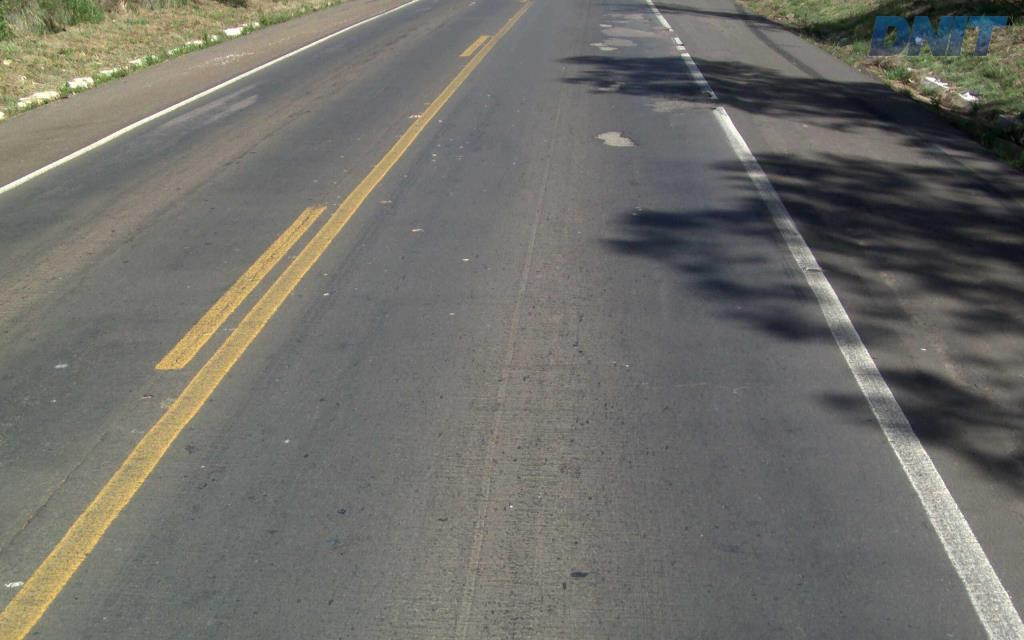pothole: (590, 122, 641, 156), (589, 42, 619, 50), (597, 20, 615, 26)
